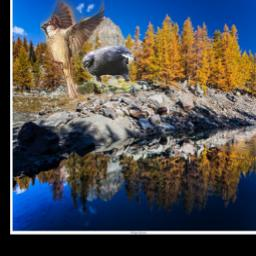Crow: (81, 47, 142, 94)
Sparrow: (40, 0, 104, 98)
